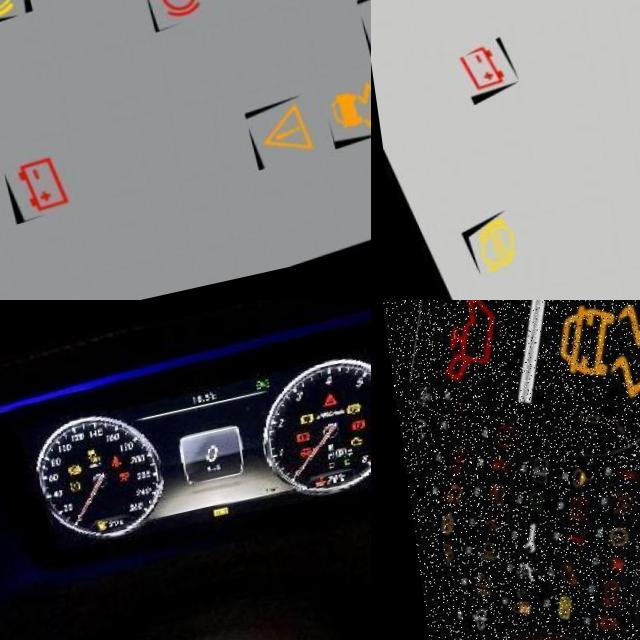Engine cooling system: (304, 495, 318, 506)
Low fuel level: (88, 529, 97, 540)
